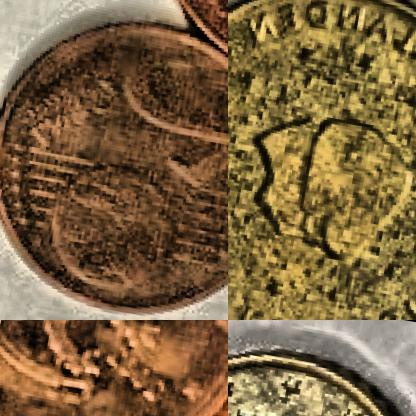coin: (0, 0, 227, 319), (228, 0, 415, 319), (0, 320, 227, 415), (228, 326, 415, 415)
